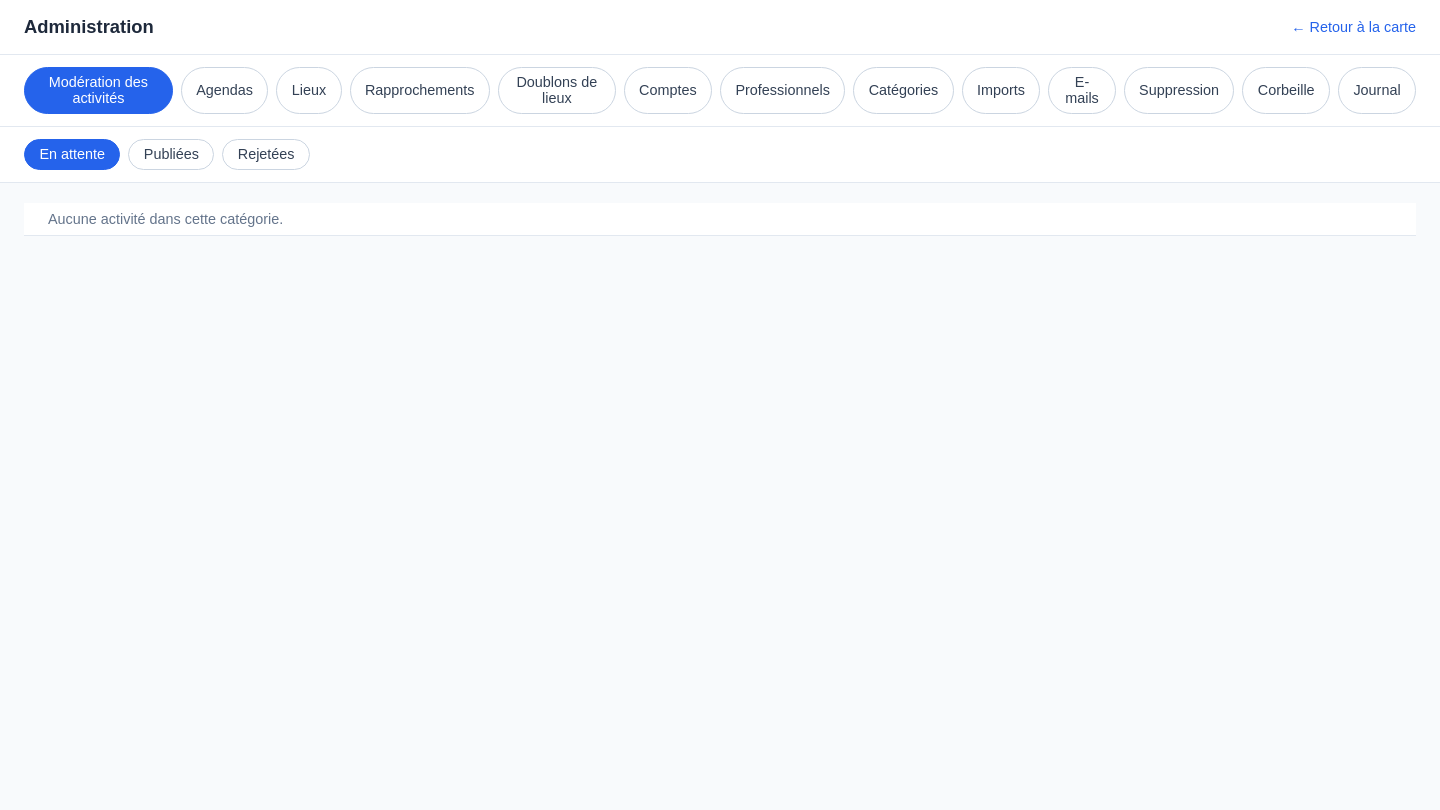
Test case: AdminPage — recherche d'agendas › signale une recherche sans résultat
Click the button "Agendas" at point(225, 90), box [181,67,268,114]
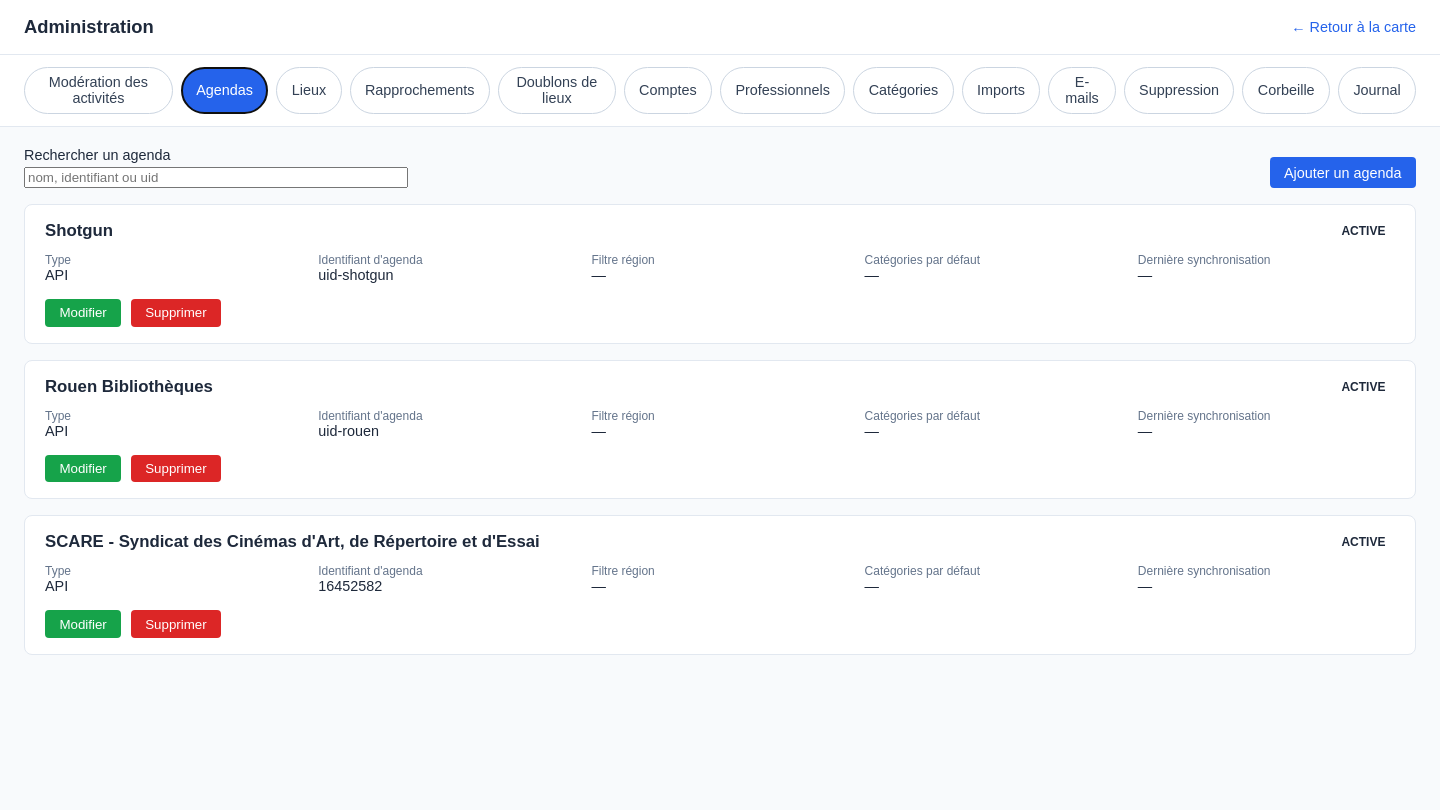
Check: the heading "Shotgun" is shown, box [45,221,113,241]
Type "introuvable" into the search field labelled "Rechercher un agenda" at point(216, 177), box [24,167,408,188]
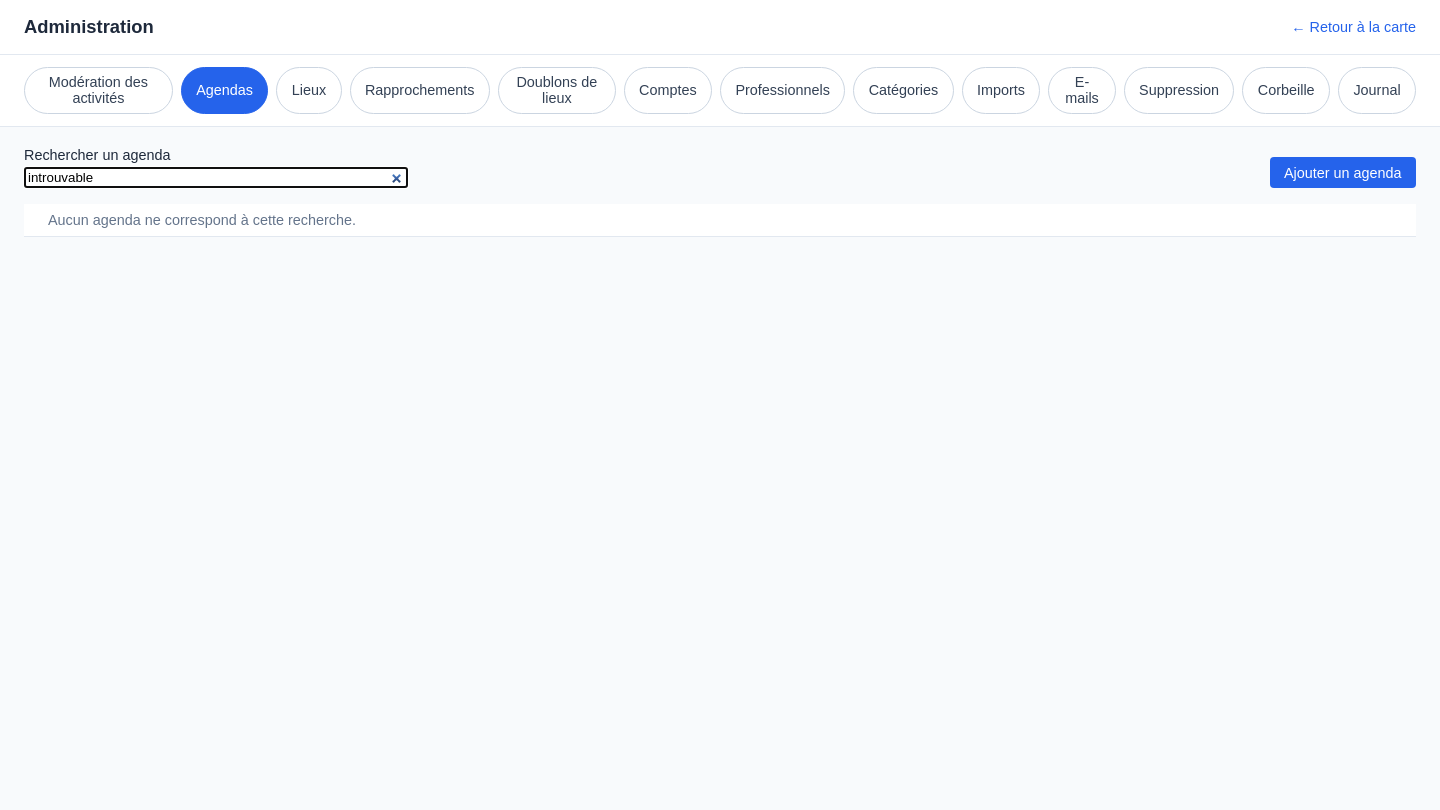
Check: the text "Aucun agenda ne correspond à cette recherche." is shown, box [24,204,1416,237]
